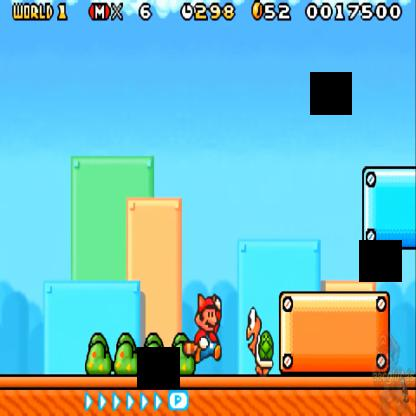Mario: (182, 292, 223, 366)
koopa: (243, 307, 276, 377)
moneda: (250, 0, 265, 26)
